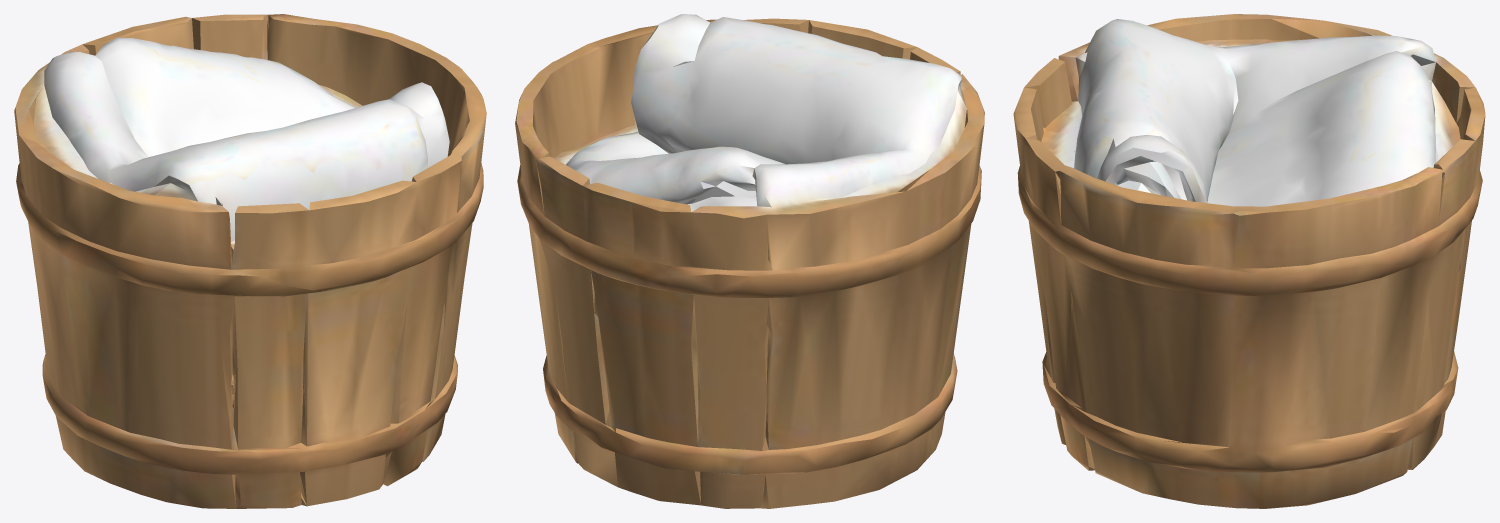
File: pail.glb
3 renders of one model, left to right at view 1: azimuth 30°, elevation 25°; view 2: azimuth 150°, elevation 25°; view 3: azimuth 270°, elevation 25°, orthographic.
Visible parts, largest first — view 1: pail; view 2: pail; view 3: pail.
Part boxes in pixels (x1,y1,x2,y2): pail: (14,14,486,508); pail: (515,14,984,508); pail: (1013,14,1485,508).
Size of the model in its own units: 0.2952 by 0.24 by 0.2949.
Materials: 1 (1 with a texture image).
